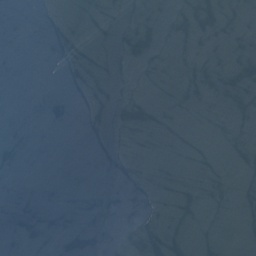Marine Debris: (140, 189, 158, 228)
Ship: (50, 43, 82, 77)
